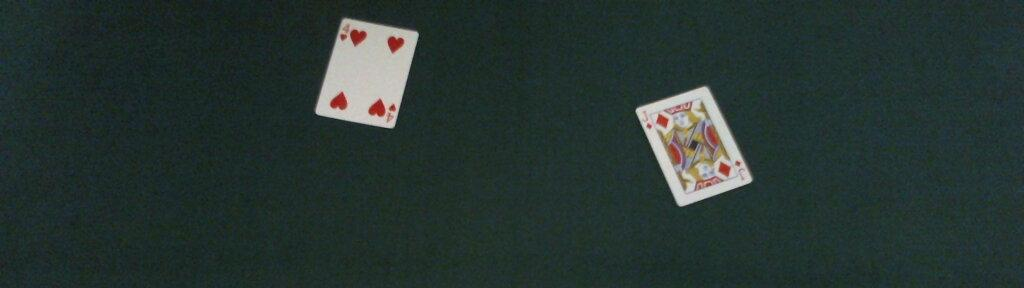four: (312, 15, 418, 128)
jack: (634, 85, 753, 208)
